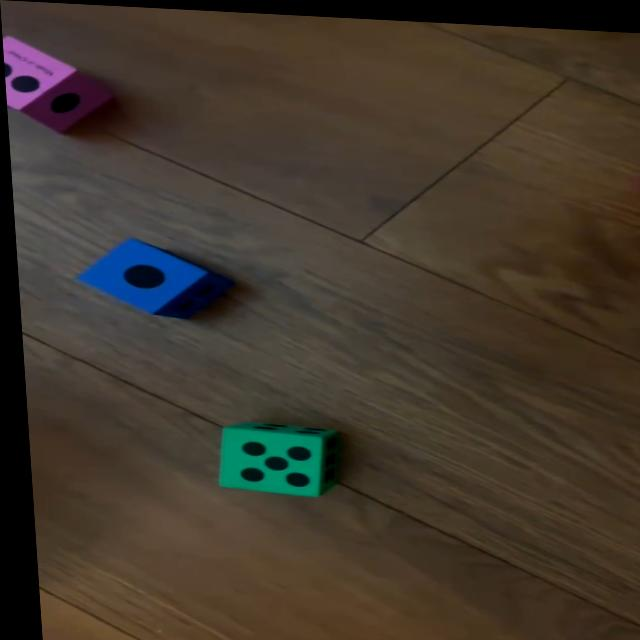cube: (72, 234, 228, 319), (210, 418, 336, 495)
